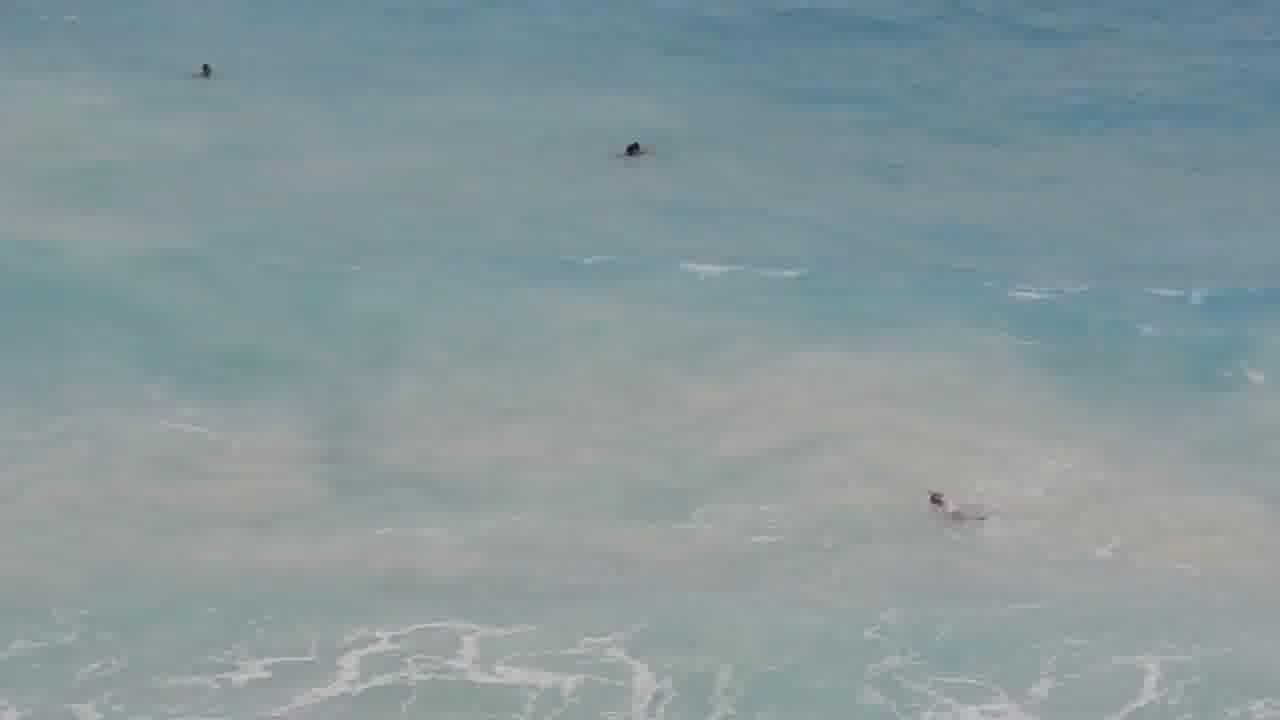swimmer: (911, 472, 978, 529), (613, 125, 655, 162), (190, 49, 225, 77)
